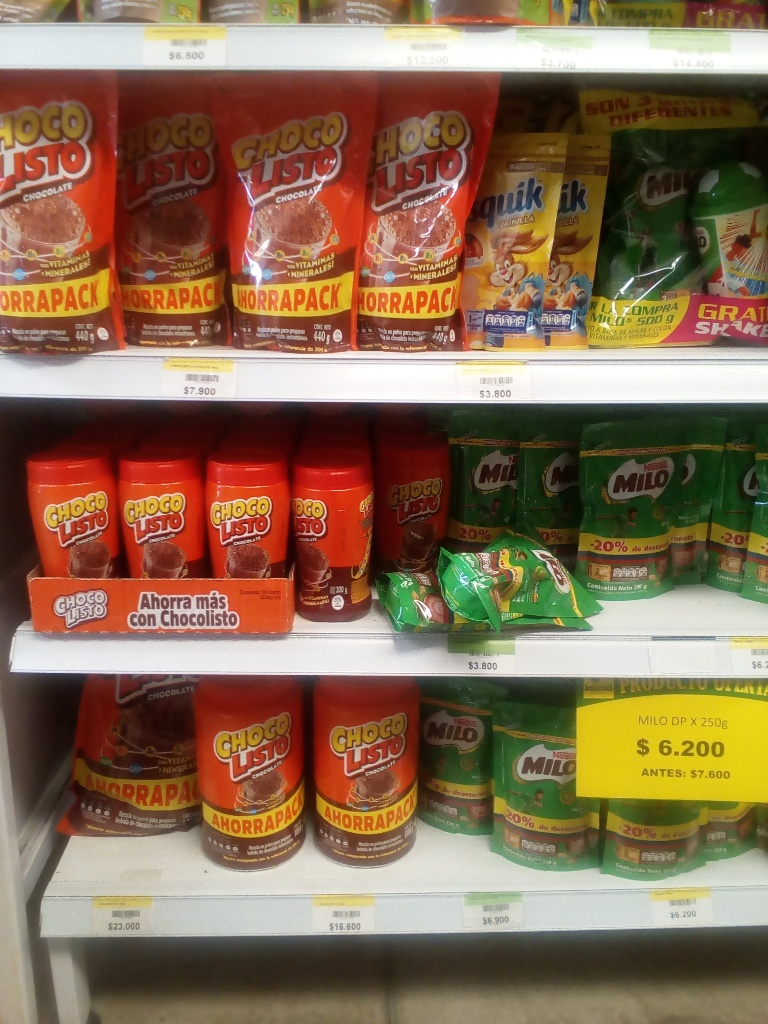COL0170103DYP44000: (362, 72, 493, 352)
COL0170103TRR00100: (310, 673, 421, 867)
